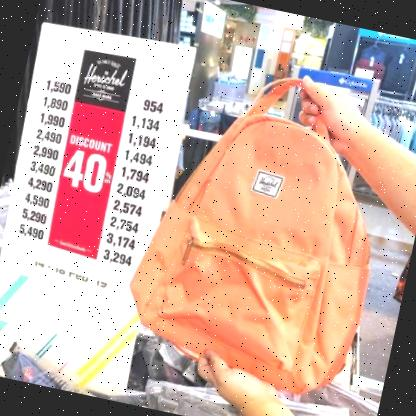bag: (107, 45, 416, 415)
